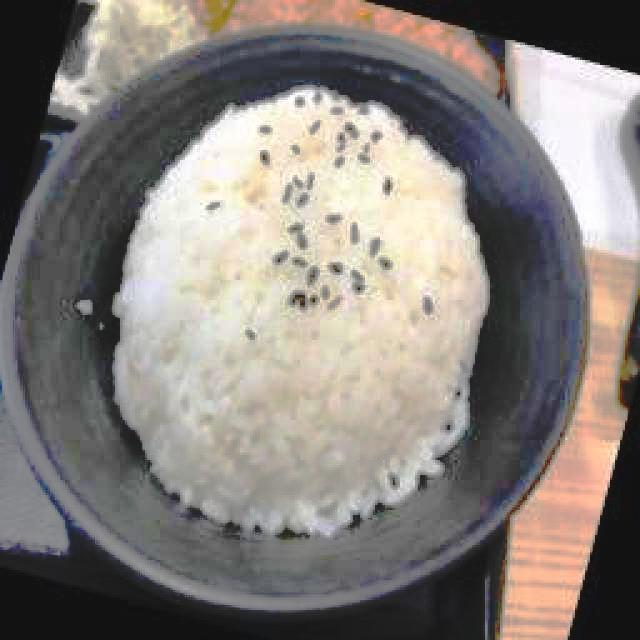rice: (111, 88, 489, 548)
